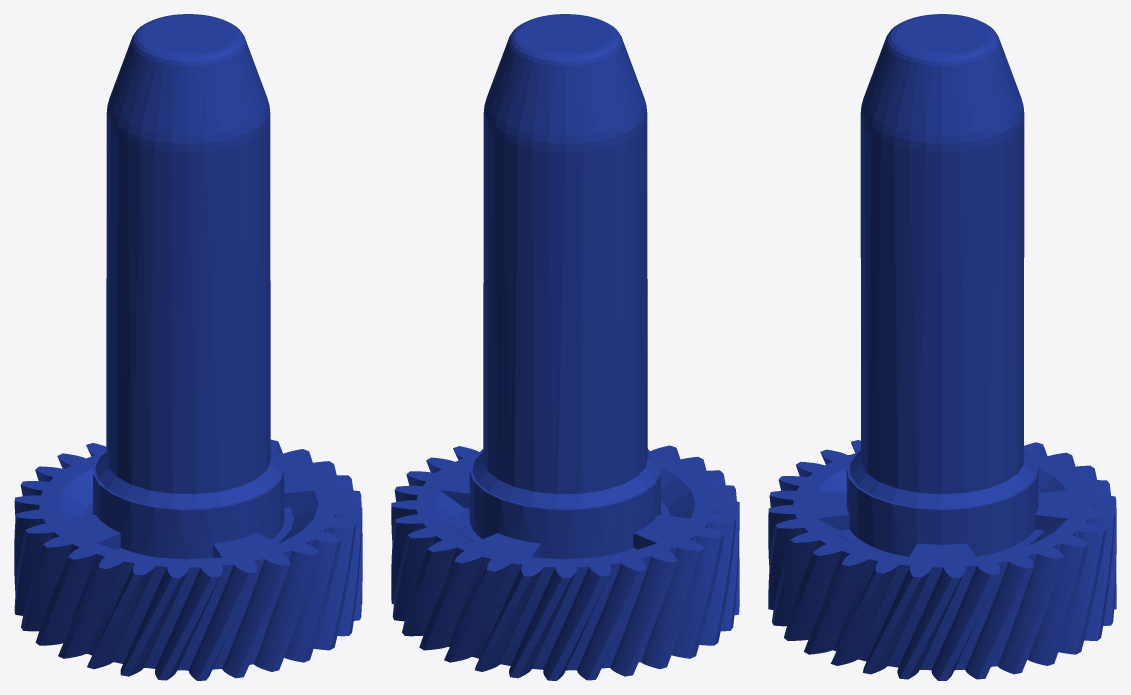
The model's file is largeGear_blue.dae.
3 views of the same model, side by side, from view 1: azimuth 30°, elevation 25°; view 2: azimuth 150°, elevation 25°; view 3: azimuth 270°, elevation 25° (orthographic).
Visible parts, largest first — view 1: largeGear_v5; view 2: largeGear_v5; view 3: largeGear_v5.
Boxes of the visible parts, box(x1,y1,x2,y2) form: largeGear_v5: box(14, 14, 362, 680); largeGear_v5: box(391, 14, 739, 680); largeGear_v5: box(768, 14, 1116, 680).
Bounding box in the file's own units: 0.0635 × 0.0635 × 0.1152.
